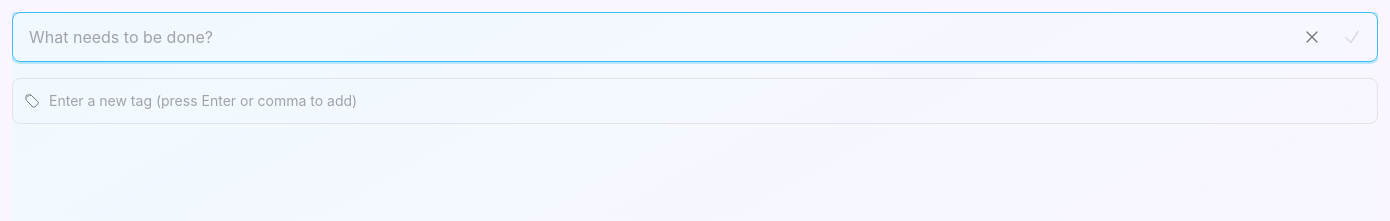
Test: GlobalTaskForm Component › adds a tag when suggestion is clicked
Step 1. Type "existing" into the field with test id "tag-input" → (695,101), box [12, 78, 1378, 124]
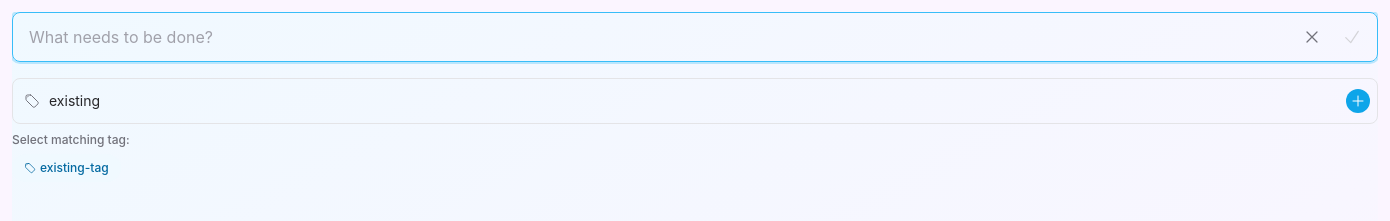
Step 2. Click the button with test id "tag-suggestion-existing-tag" → (66,168), box [12, 154, 121, 182]
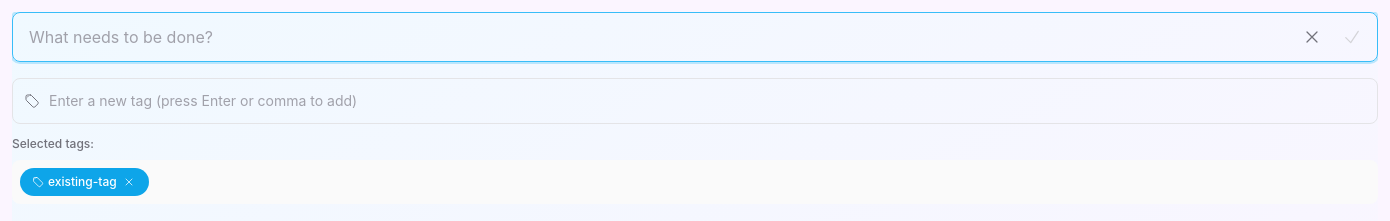
Now the text "existing-tag" is shown, box [48, 174, 117, 190]
Now the element with test id "selected-tags" is shown, box [12, 136, 1378, 204]
